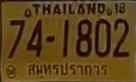0: (94, 18, 110, 56)
1: (62, 19, 68, 57)
2: (112, 18, 128, 57)
4: (26, 18, 42, 57)
7: (8, 19, 24, 58)
8: (75, 19, 91, 56)
SPK: (24, 61, 109, 79)
